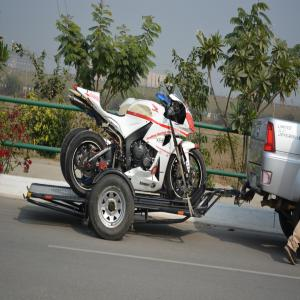Vehicle-registration-plate: (251, 176, 258, 188)
